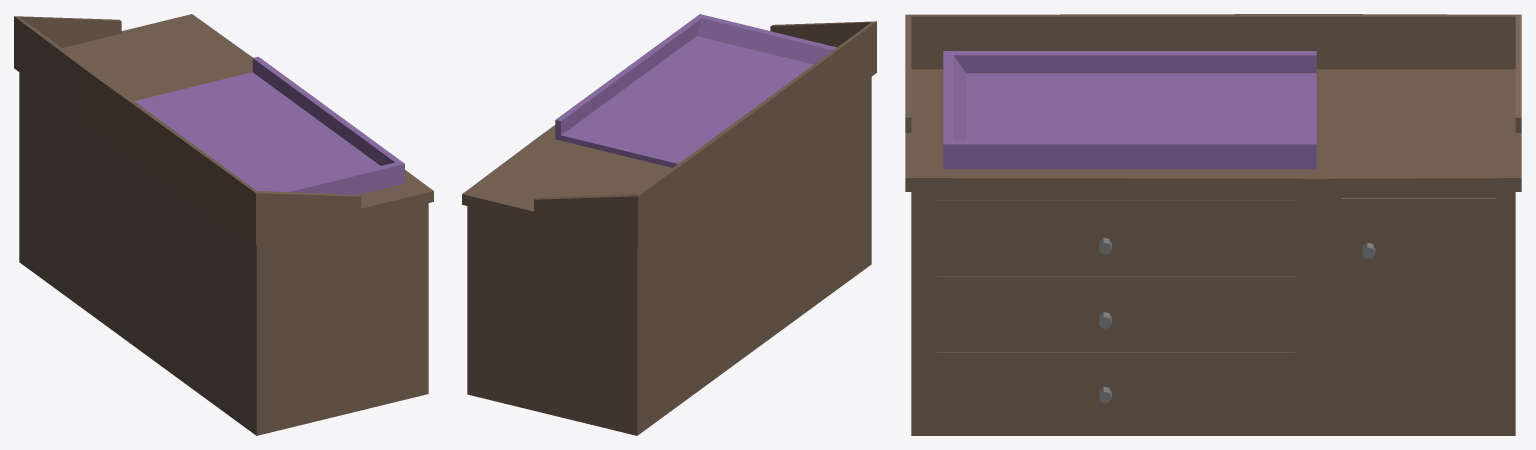
File: baby closet.fbx
The picture shows the model from 3 angles, left to right: view 1: azimuth 30°, elevation 25°; view 2: azimuth 150°, elevation 25°; view 3: azimuth 270°, elevation 25°; orthographic projection. The views are drawn at different scales.
Visible parts, largest first — view 1: Cube.001; view 2: Cube.001; view 3: Cube.001.
Boxes of the visible parts, x1=… form: Cube.001: x1=14, y1=14, x2=433, y2=435; Cube.001: x1=462, y1=14, x2=876, y2=435; Cube.001: x1=905, y1=14, x2=1521, y2=435.
Bounding box in the file's own units: 130 × 164 × 293.
